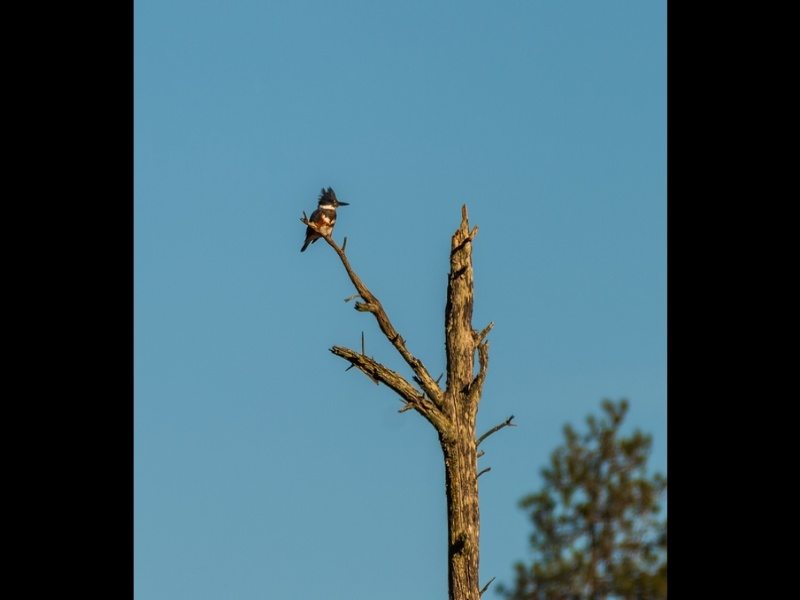kingfisher: (300, 185, 350, 255)
